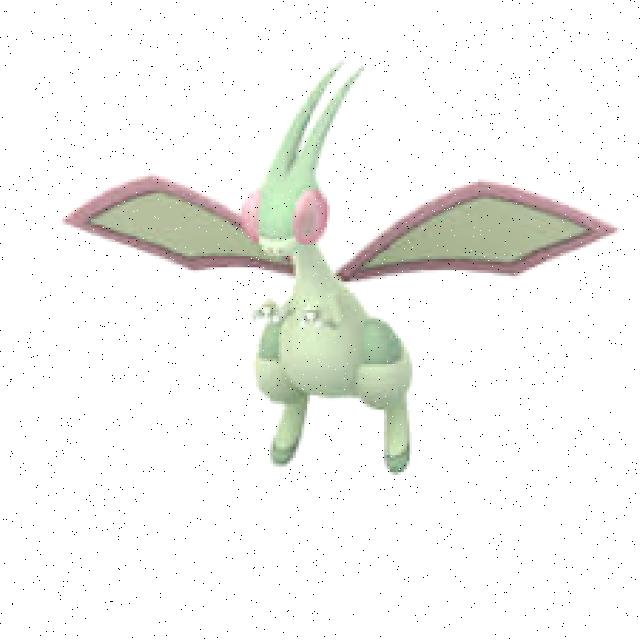flygon: (62, 57, 618, 508)
